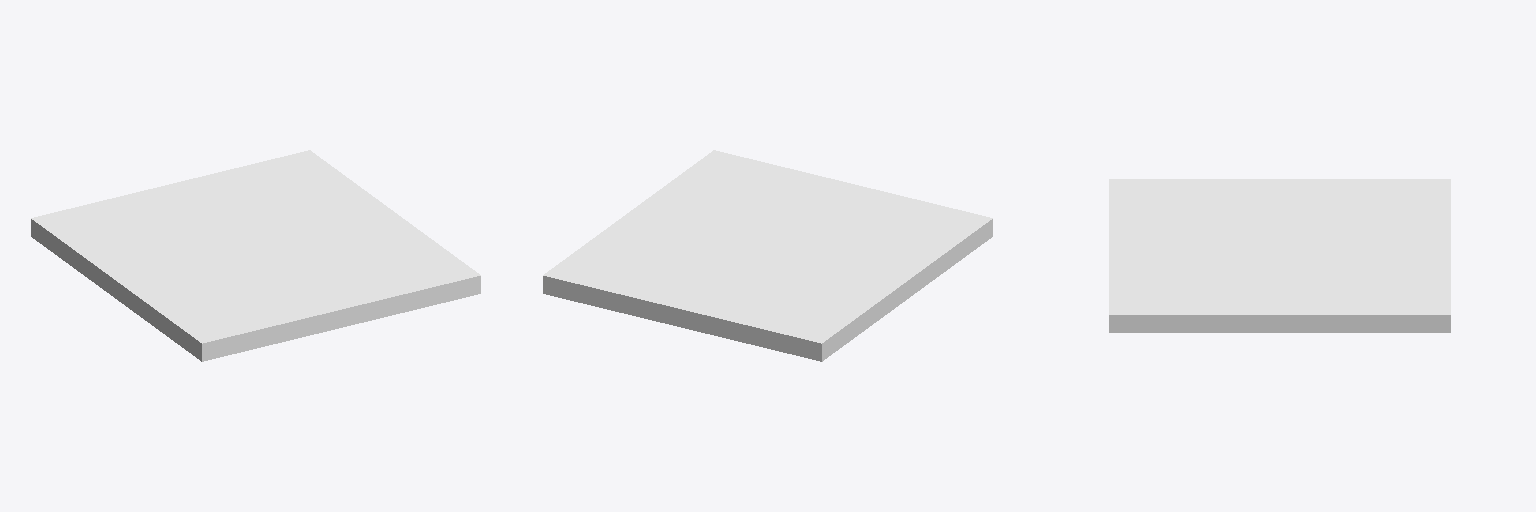
File: onesideandoneuppercorner.obj
The picture shows the model from 3 angles: view 1: azimuth 30°, elevation 25°; view 2: azimuth 150°, elevation 25°; view 3: azimuth 270°, elevation 25°; orthographic projection.
Parts seen in each view (by area): view 1: onesideandoneuppercorner; view 2: onesideandoneuppercorner; view 3: onesideandoneuppercorner.
Boxes of the visible parts, x1,y1,x2,y2 form: onesideandoneuppercorner: [31, 150, 480, 361]; onesideandoneuppercorner: [543, 150, 992, 361]; onesideandoneuppercorner: [1109, 179, 1450, 332].
Size of the model in its own units: 16 by 1 by 17.